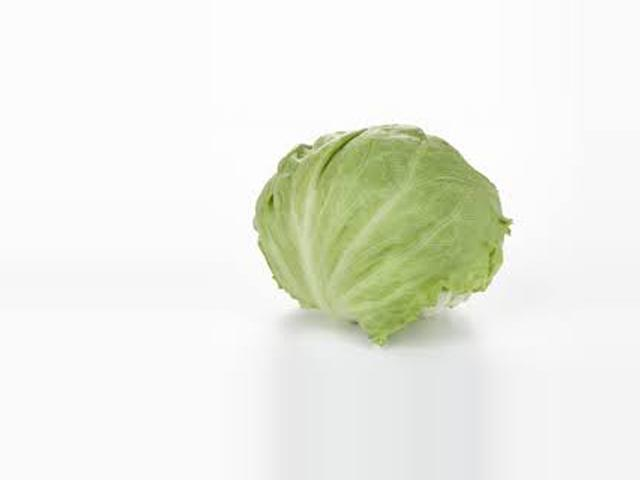lettuce: (237, 121, 516, 313)
